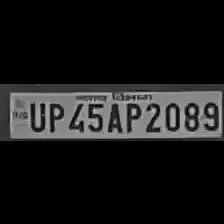0: (161, 100, 181, 132)
2: (142, 99, 162, 133)
4: (65, 100, 85, 132)
5: (84, 100, 104, 132)
8: (180, 99, 200, 131)
9: (200, 99, 220, 131)
A: (104, 99, 124, 133)
P: (122, 99, 142, 133), (44, 100, 64, 132)
U: (26, 100, 44, 132)
